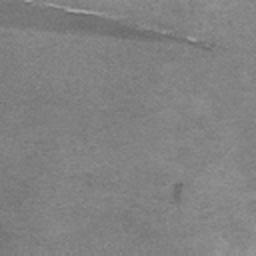Finishing roll printing: (0, 0, 211, 47), (173, 182, 184, 202)
